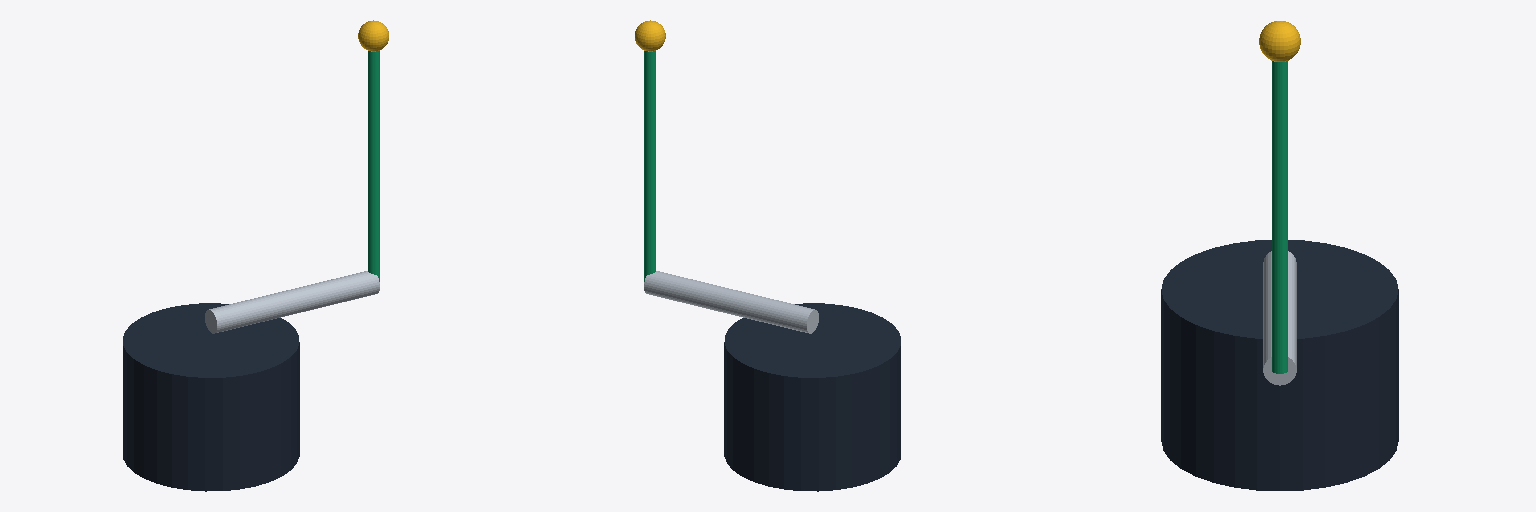
robot.urdf — capstone2_furuta_pendulum:
<?xml version="1.0" encoding="utf-8"?>
<!--
  Capstone II: Underactuated Rotary Inverted Pendulum (Furuta Pendulum)
  - Joint 1 (q1_base_yaw): Direct-Drive Brushless Motor about vertical +Z axis
  - Joint 2 (q2_pendulum_pitch): Unactuated Ceramic-Bearing Pendulum about radial +X axis
  - All inertia tensors verified SPD and strictly satisfy triangle inequalities.
-->
<robot name="capstone2_furuta_pendulum">

  <material name="anodized_slate">
    <color rgba="0.18 0.22 0.28 1.0"/>
  </material>
  <material name="machined_aluminum">
    <color rgba="0.75 0.78 0.82 1.0"/>
  </material>
  <material name="carbon_rod">
    <color rgba="0.12 0.65 0.45 1.0"/>
  </material>
  <material name="brass_tip">
    <color rgba="0.92 0.72 0.18 1.0"/>
  </material>

  <!-- Fixed Stator Pedestal Base -->
  <link name="base_link">
    <inertial>
      <origin xyz="0.0 0.0 0.06" rpy="0.0 0.0 0.0"/>
      <mass value="2.500"/>
      <inertia ixx="0.008500" ixy="0.0" ixz="0.0" iyy="0.008500" iyz="0.0" izz="0.009000"/>
    </inertial>
    <visual>
      <origin xyz="0.0 0.0 0.06" rpy="0.0 0.0 0.0"/>
      <geometry>
        <cylinder radius="0.085" length="0.12"/>
      </geometry>
      <material name="anodized_slate"/>
    </visual>
    <collision>
      <origin xyz="0.0 0.0 0.06" rpy="0.0 0.0 0.0"/>
      <geometry>
        <cylinder radius="0.085" length="0.12"/>
      </geometry>
    </collision>
  </link>

  <!-- Joint 1: Actuated Direct-Drive Base Rotary Arm (+Z axis) -->
  <joint name="q1_base_yaw" type="revolute">
    <parent link="base_link"/>
    <child link="rotary_arm_link"/>
    <origin xyz="0.0 0.0 0.14" rpy="0.0 0.0 0.0"/>
    <axis xyz="0.0 0.0 1.0"/>
    <limit lower="-2.0943951" upper="2.0943951" effort="4.5" velocity="25.0"/>
    <dynamics damping="0.0015" friction="0.002"/>
  </joint>

  <!-- Horizontal Rotary Arm (Length L1 = 0.18 m along +X) -->
  <link name="rotary_arm_link">
    <inertial>
      <origin xyz="0.09 0.0 0.0" rpy="0.0 0.0 0.0"/>
      <mass value="0.320"/>
      <!-- Solid aluminum bar 0.18m x 0.024m x 0.024m about CoM -->
      <inertia ixx="0.000031" ixy="0.0" ixz="0.0" iyy="0.000879" iyz="0.0" izz="0.000879"/>
    </inertial>
    <visual>
      <origin xyz="0.09 0.0 0.0" rpy="0.0 1.57079632679 0.0"/>
      <geometry>
        <cylinder radius="0.012" length="0.18"/>
      </geometry>
      <material name="machined_aluminum"/>
    </visual>
    <collision>
      <origin xyz="0.09 0.0 0.0" rpy="0.0 1.57079632679 0.0"/>
      <geometry>
        <cylinder radius="0.012" length="0.18"/>
      </geometry>
    </collision>
  </link>

  <!-- Joint 2: Unactuated Low-Friction Pendulum Pivot (+X radial axis, q2=0 upright +Z) -->
  <joint name="q2_pendulum_pitch" type="continuous">
    <parent link="rotary_arm_link"/>
    <child link="pendulum_link"/>
    <origin xyz="0.18 0.0 0.0" rpy="0.0 0.0 0.0"/>
    <axis xyz="1.0 0.0 0.0"/>
    <limit effort="0.0" velocity="60.0"/>
    <dynamics damping="0.00008" friction="0.00005"/>
  </joint>

  <!-- Vertical Pendulum Rod + Tip Mass (Length L2 = 0.26 m, CoM at lc2 = 0.15 m along +Z) -->
  <link name="pendulum_link">
    <inertial>
      <origin xyz="0.0 0.0 0.15" rpy="0.0 0.0 0.0"/>
      <mass value="0.145"/>
      <!-- Slender rod + tip bob about CoM: Ixx = Iyy = 0.000820, Izz = 0.000012 -->
      <inertia ixx="0.000820" ixy="0.0" ixz="0.0" iyy="0.000820" iyz="0.0" izz="0.000012"/>
    </inertial>
    <visual>
      <origin xyz="0.0 0.0 0.13" rpy="0.0 0.0 0.0"/>
      <geometry>
        <cylinder radius="0.006" length="0.26"/>
      </geometry>
      <material name="carbon_rod"/>
    </visual>
    <collision>
      <origin xyz="0.0 0.0 0.13" rpy="0.0 0.0 0.0"/>
      <geometry>
        <cylinder radius="0.006" length="0.26"/>
      </geometry>
    </collision>
  </link>

  <!-- End-Effector / Tip Marker Frame for Tracking & Energy Logging -->
  <joint name="pendulum_tip_fixed" type="fixed">
    <parent link="pendulum_link"/>
    <child link="pendulum_tip_link"/>
    <origin xyz="0.0 0.0 0.26" rpy="0.0 0.0 0.0"/>
  </joint>

  <link name="pendulum_tip_link">
    <inertial>
      <origin xyz="0.0 0.0 0.0" rpy="0.0 0.0 0.0"/>
      <mass value="0.010"/>
      <inertia ixx="0.000001" ixy="0.0" ixz="0.0" iyy="0.000001" iyz="0.0" izz="0.000001"/>
    </inertial>
    <visual>
      <origin xyz="0.0 0.0 0.0" rpy="0.0 0.0 0.0"/>
      <geometry>
        <sphere radius="0.015"/>
      </geometry>
      <material name="brass_tip"/>
    </visual>
  </link>

  <transmission name="q1_direct_drive_trans">
    <type>transmission_interface/SimpleTransmission</type>
    <joint name="q1_base_yaw">
      <hardwareInterface>hardware_interface/EffortJointInterface</hardwareInterface>
    </joint>
    <actuator name="q1_bldc_motor">
      <mechanicalReduction>1.0</mechanicalReduction>
    </actuator>
  </transmission>

</robot>

--- Facts derived from the render (not from the file) ---
The picture shows the robot from 3 angles, left to right: view 1: azimuth 30°, elevation 25°; view 2: azimuth 150°, elevation 25°; view 3: azimuth 270°, elevation 25°; orthographic projection.
Robot: capstone2_furuta_pendulum — 4 links, 3 joints (1 revolute, 1 continuous, 1 fixed); root link base_link; default pose: all joints at 0.
Links seen in each view (by area): view 1: base_link, rotary_arm_link, pendulum_link, pendulum_tip_link; view 2: base_link, rotary_arm_link, pendulum_link, pendulum_tip_link; view 3: base_link, pendulum_link, rotary_arm_link, pendulum_tip_link.
Boxes of the visible links, box(x1,y1,x2,y2) form: base_link: box(123, 303, 299, 491); rotary_arm_link: box(205, 271, 379, 333); pendulum_link: box(368, 51, 379, 281); pendulum_tip_link: box(358, 20, 388, 51); base_link: box(724, 303, 900, 491); rotary_arm_link: box(644, 271, 818, 333); pendulum_link: box(644, 51, 655, 281); pendulum_tip_link: box(635, 20, 665, 51); base_link: box(1161, 240, 1398, 490); pendulum_link: box(1272, 61, 1287, 373); rotary_arm_link: box(1263, 251, 1296, 385); pendulum_tip_link: box(1259, 21, 1300, 61).
Size in the robot's own frame: 0.28 by 0.17 by 0.415 metres.
Geometry: primitives only (box / cylinder / sphere), no mesh files.
